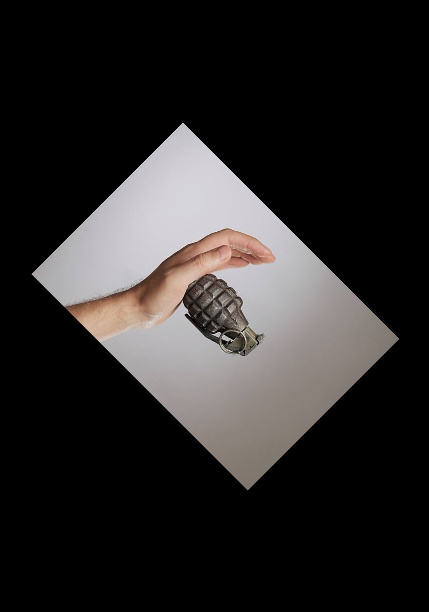e1: (183, 274, 268, 360)
